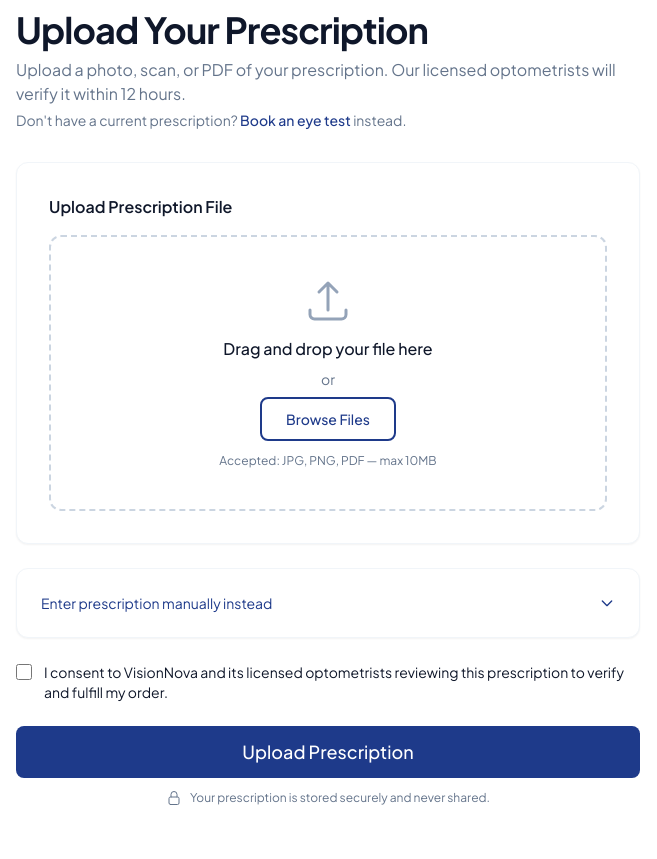
Test: PrescriptionUploadPage › displays an error message returned by the action
Click the button "Upload Prescription" at (328, 752), box [16,726,640,778]
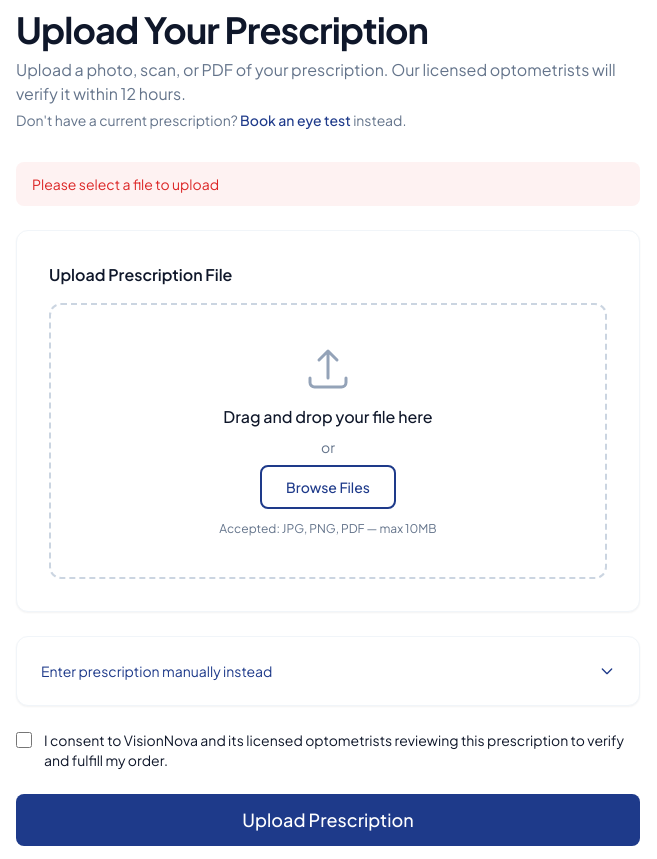
Expected: the message reads "Please select a file to upload", [32,175,219,193]
